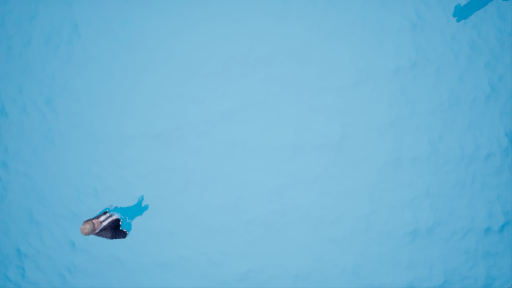person: (77, 191, 153, 250)
